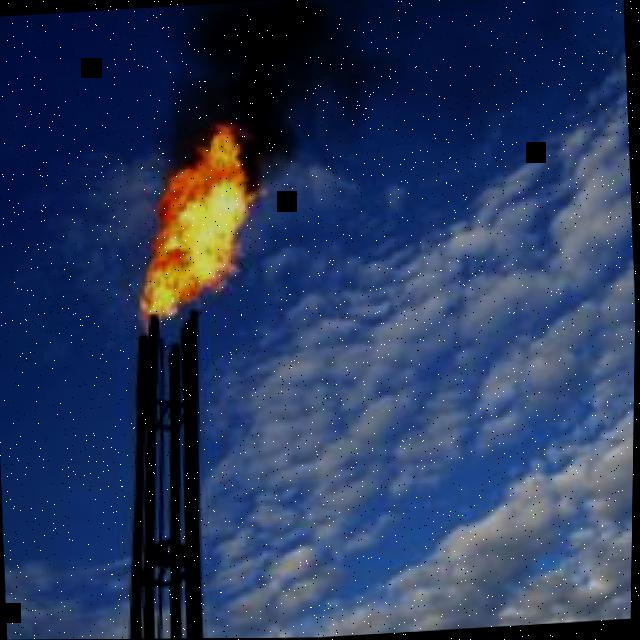fire: (140, 121, 268, 337)
smoke: (161, 0, 400, 187)
